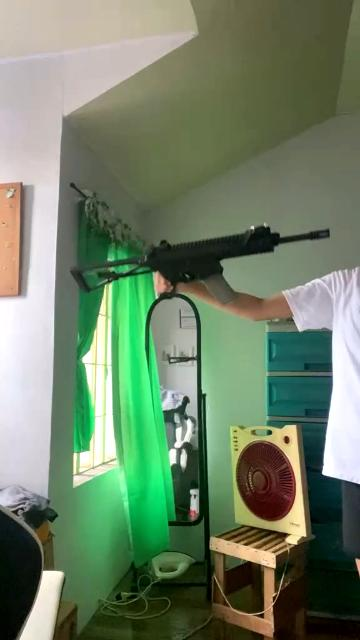rifle: (54, 216, 344, 302)
